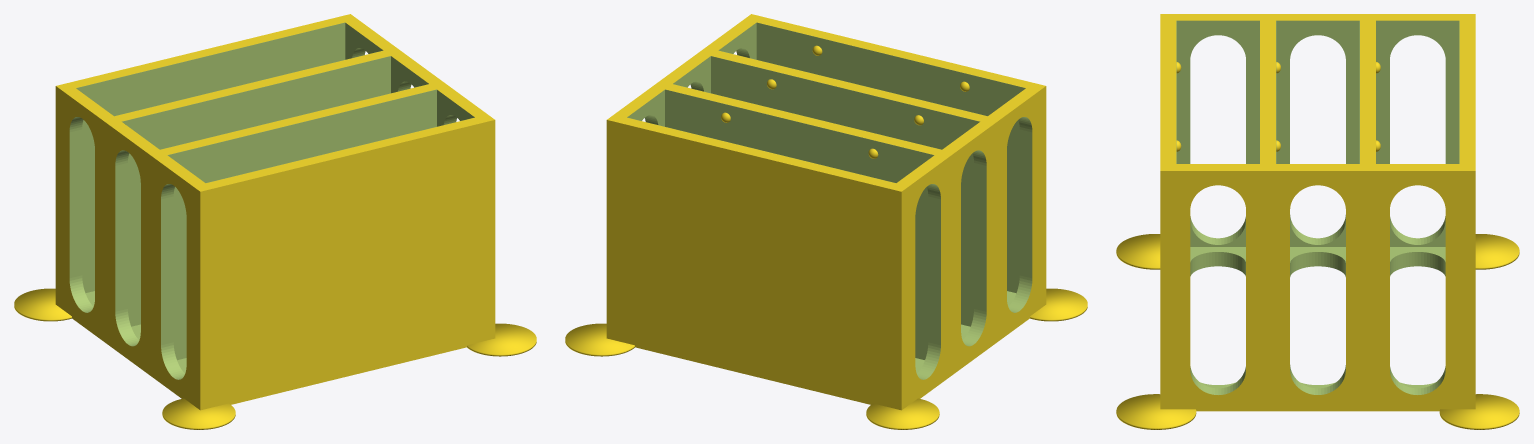
File: openscad_slotted-drawer-box.glb
3 renders of one model, left to right at view 1: azimuth 30°, elevation 25°; view 2: azimuth 150°, elevation 25°; view 3: azimuth 270°, elevation 25°, orthographic. The views are drawn at different scales.
Parts seen in each view (by area): view 1: object; view 2: object; view 3: object.
Boxes of the visible parts, x1,y1,x2,y2 form: object: (14,14,536,429); object: (565,14,1087,429); object: (1116,14,1519,429).
Size of the model in its own units: 115 by 66.5 by 101.
